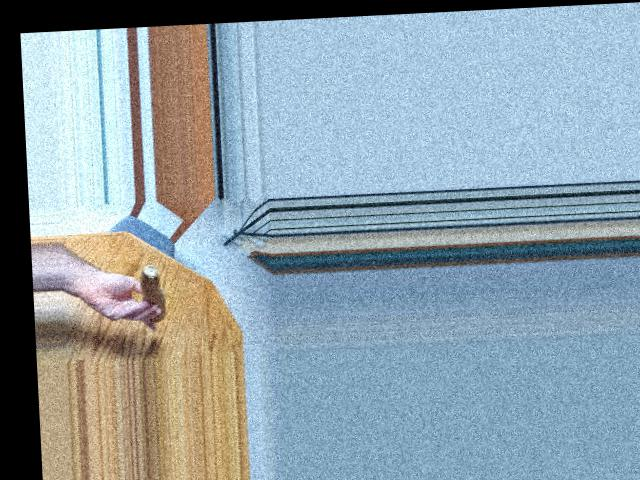sweet_potato: (138, 273, 166, 320)
